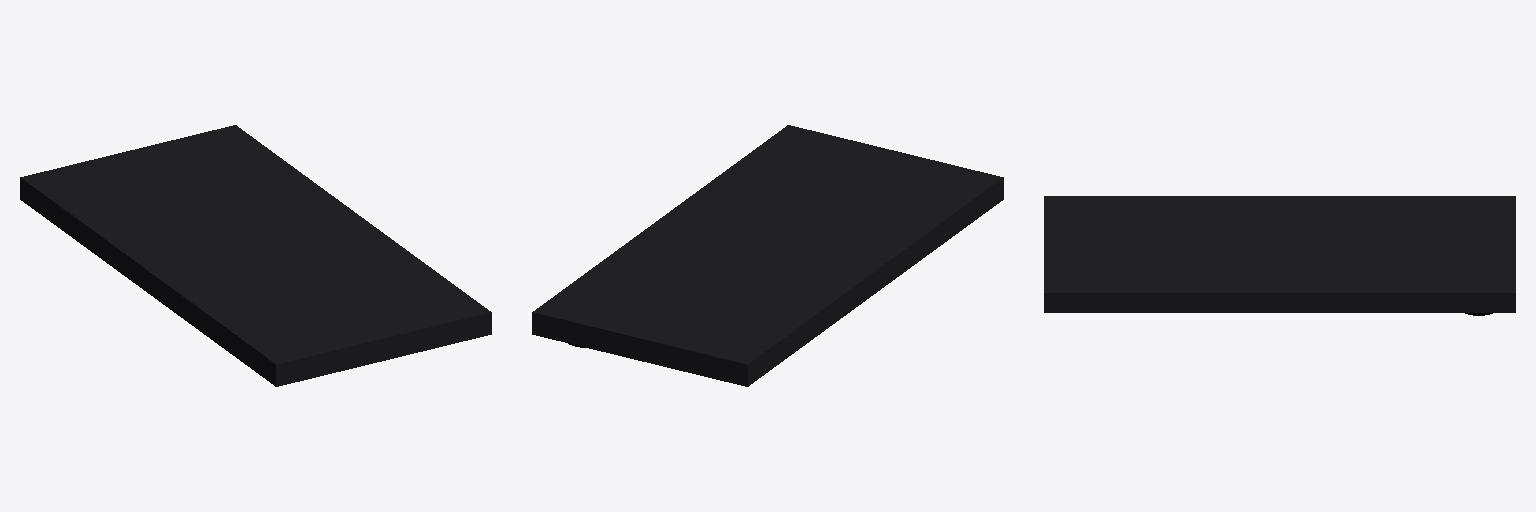
robot.urdf — iphone_14_plus:
<?xml version="1.0"?>
<!-- iPhone 14 Plus: generated by imuninn from Apple's dimensional drawings (iphone-frames dataset). Frames: device = display centre on the front glass (x right, y top, z out of the screen); cam_*_optical = OpenCV axes. Geometry and mass are approximate. -->
<robot name="iphone_14_plus">
  <material name="iphone_body">
    <color rgba="0.15 0.15 0.17 1" />
  </material>
  <material name="iphone_lens">
    <color rgba="0.05 0.05 0.06 1" />
  </material>
  <link name="device">
    <visual name="body">
      <origin xyz="0 0 -0.0039" rpy="0 0 0" />
      <geometry>
        <box size="0.07807 0.16084 0.0078" />
      </geometry>
      <material name="iphone_body" />
    </visual>
    <collision name="body">
      <origin xyz="0 0 -0.0039" rpy="0 0 0" />
      <geometry>
        <box size="0.07807 0.16084 0.0078" />
      </geometry>
    </collision>
    <visual name="lens_ultra_wide">
      <origin xyz="0.026485 0.06787 -0.00951" rpy="0 0 0" />
      <geometry>
        <cylinder radius="0.00719" length="0.00342" />
      </geometry>
      <material name="iphone_lens" />
    </visual>
    <visual name="lens_main">
      <origin xyz="0.013735 0.05512 -0.00951" rpy="0 0 0" />
      <geometry>
        <cylinder radius="0.00719" length="0.00342" />
      </geometry>
      <material name="iphone_lens" />
    </visual>
    <inertial>
      <origin xyz="0 0 -0.0039" rpy="0 0 0" />
      <mass value="0.225" />
      <inertia ixx="0.000486194" ixy="0" ixz="0" iyy="0.000115421" iyz="0" izz="0.000599333" />
    </inertial>
  </link>
  <link name="magsafe" />
  <joint name="device_to_magsafe" type="fixed">
    <parent link="device" />
    <child link="magsafe" />
    <origin xyz="-5e-06 0 -0.0078" rpy="3.14159265 0 3.14159265" />
  </joint>
  <link name="cam_ultra_wide_optical" />
  <joint name="device_to_cam_ultra_wide_optical" type="fixed">
    <parent link="device" />
    <child link="cam_ultra_wide_optical" />
    <origin xyz="0.026485 0.06787 -0.01122" rpy="3.14159265 0 -1.57079633" />
  </joint>
  <link name="cam_main_optical" />
  <joint name="device_to_cam_main_optical" type="fixed">
    <parent link="device" />
    <child link="cam_main_optical" />
    <origin xyz="0.013735 0.05512 -0.01122" rpy="3.14159265 0 -1.57079633" />
  </joint>
  <link name="cam_front_optical" />
  <joint name="device_to_cam_front_optical" type="fixed">
    <parent link="device" />
    <child link="cam_front_optical" />
    <origin xyz="5e-06 0.0751 0" rpy="0 0 1.57079633" />
  </joint>
  <link name="imu" />
  <joint name="device_to_imu" type="fixed">
    <parent link="device" />
    <child link="imu" />
    <origin xyz="0 0 0" rpy="0 0 0" />
  </joint>
</robot>

--- Render facts (derived) ---
3 views of the same robot in one strip: view 1: azimuth 30°, elevation 25°; view 2: azimuth 150°, elevation 25°; view 3: azimuth 270°, elevation 25° (orthographic).
Robot: iphone_14_plus — 6 links, 5 joints (5 fixed); root link device; default pose: all joints at 0.
Links seen in each view (by area): view 1: device; view 2: device; view 3: device.
Link boxes in pixels (x1,y1,x2,y2): device: [20, 125, 491, 386]; device: [532, 125, 1003, 386]; device: [1044, 196, 1515, 315].
Bounding box of the posed robot: 0.0781 × 0.1608 × 0.0112 m (x, y, z).
Geometry: primitives only (box / cylinder / sphere), no mesh files.
